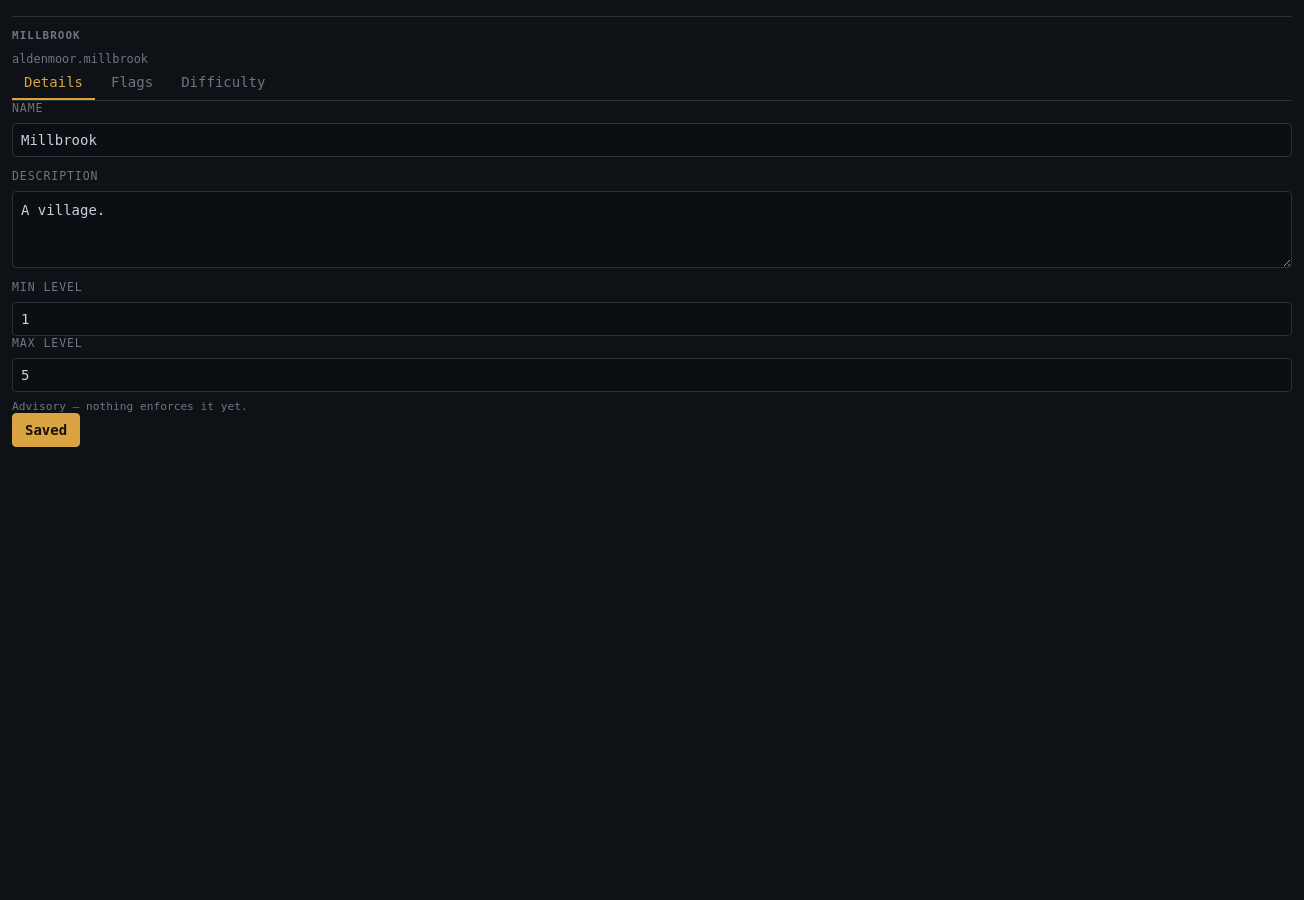
Test case: reports what the respawn moved
The image size is (1304, 900).
Press the mouse on the tab "Difficulty": (223, 83) [169,66,278,100]
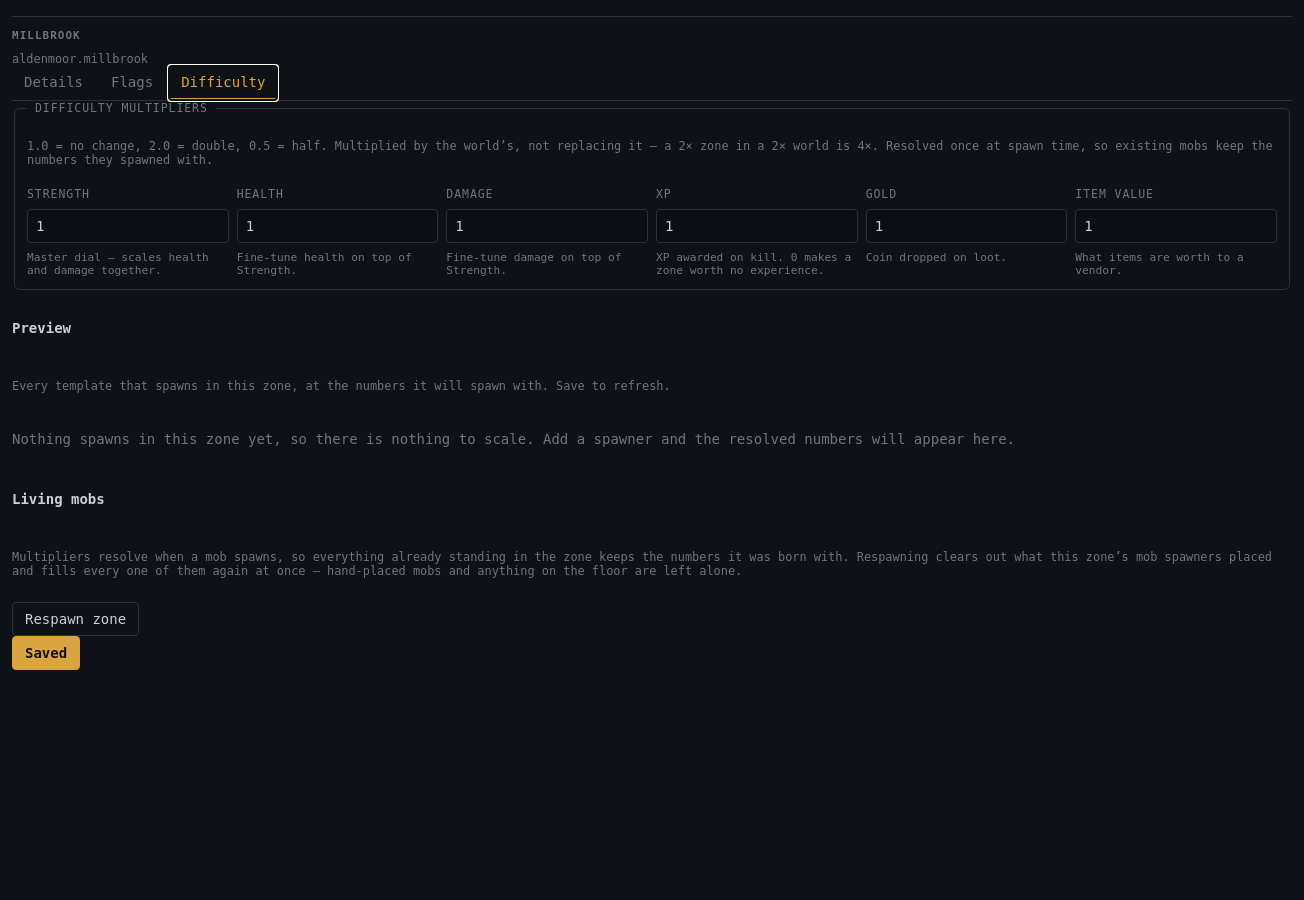
Click the button "Respawn zone": (76, 619) [12,602,139,636]
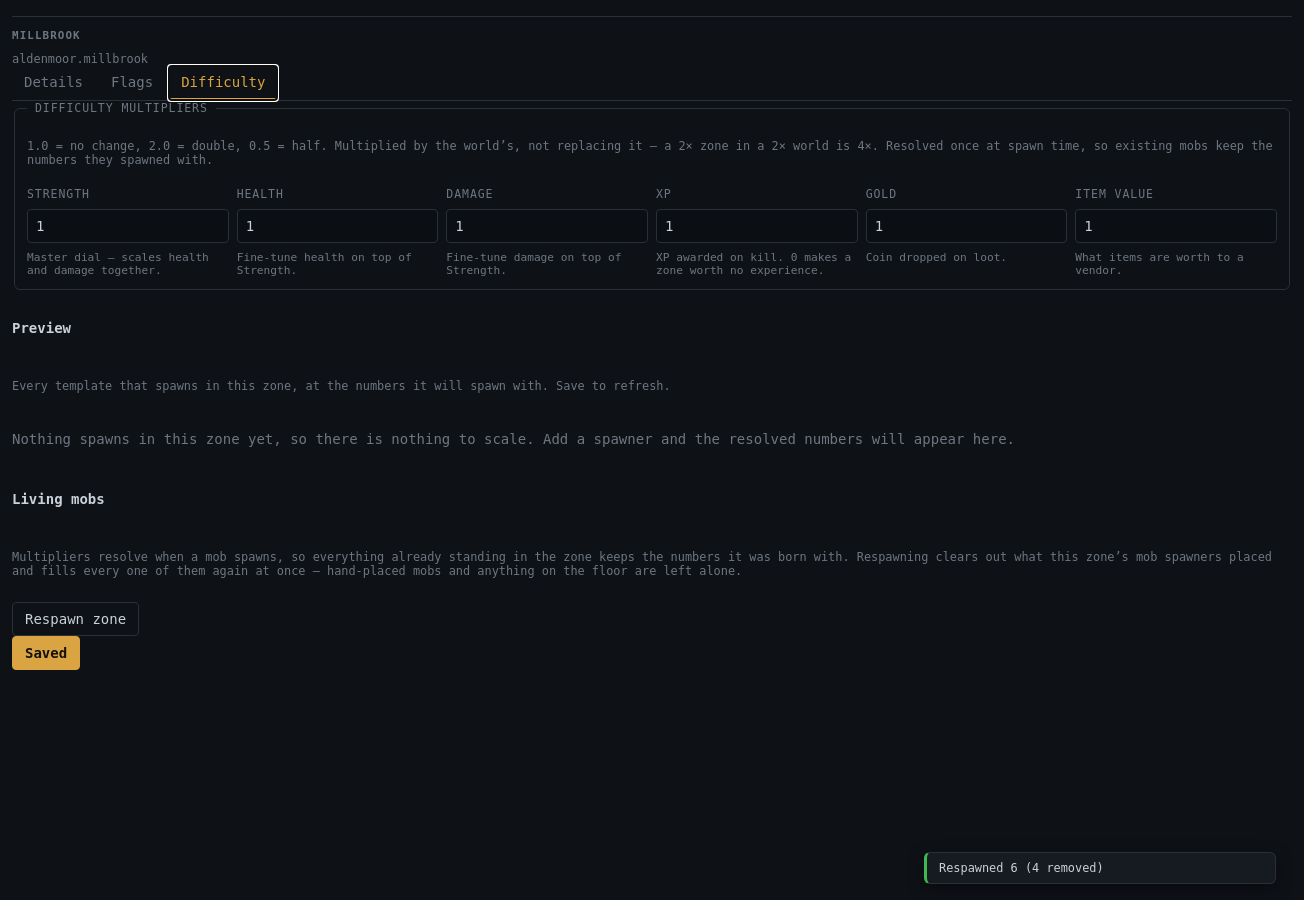
Expected: the text "Respawned 6 (4 removed)" is shown, [939,861,1104,875]
